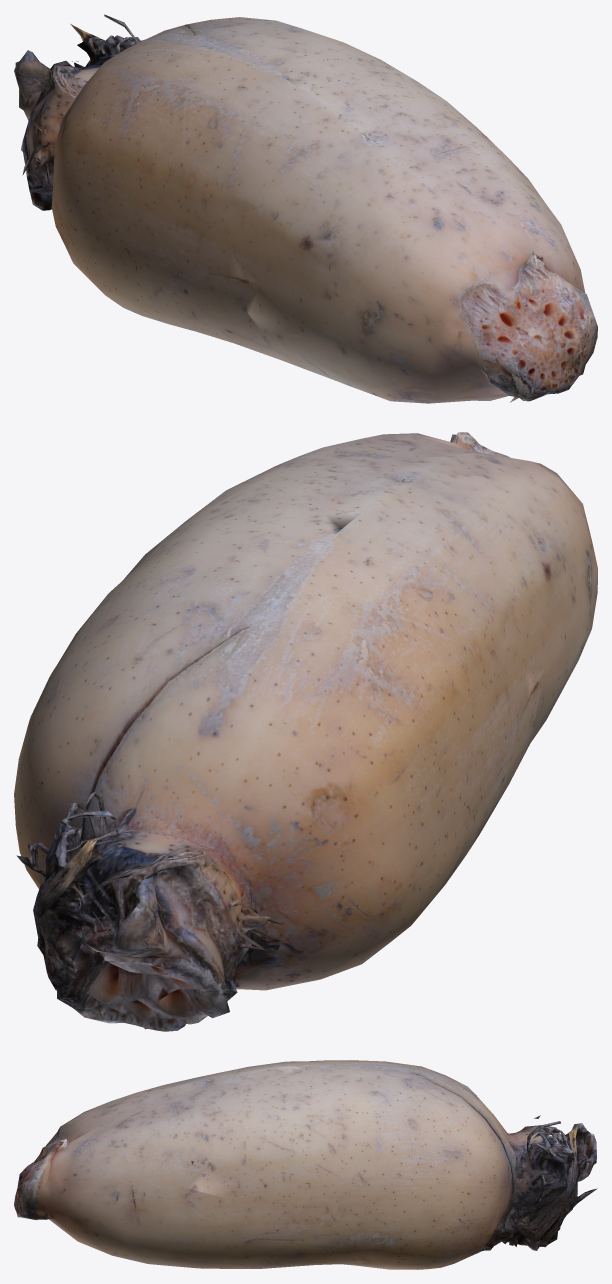
File: lotus_root.glb
3 renders of one model, top to bottom at view 1: azimuth 30°, elevation 25°; view 2: azimuth 150°, elevation 25°; view 3: azimuth 270°, elevation 25°, orthographic. The views are drawn at different scales.
Parts seen in each view (by area): view 1: di_3; view 2: di_3; view 3: di_3.
Boxes of the visible parts, box(x1,y1,x2,y2) form: di_3: box(14, 14, 597, 403); di_3: box(14, 432, 597, 1031); di_3: box(14, 1060, 597, 1269).
Bounding box in the file's own units: 1.01 × 0.8828 × 2.41.
Materials: 1 (1 with a texture image).
